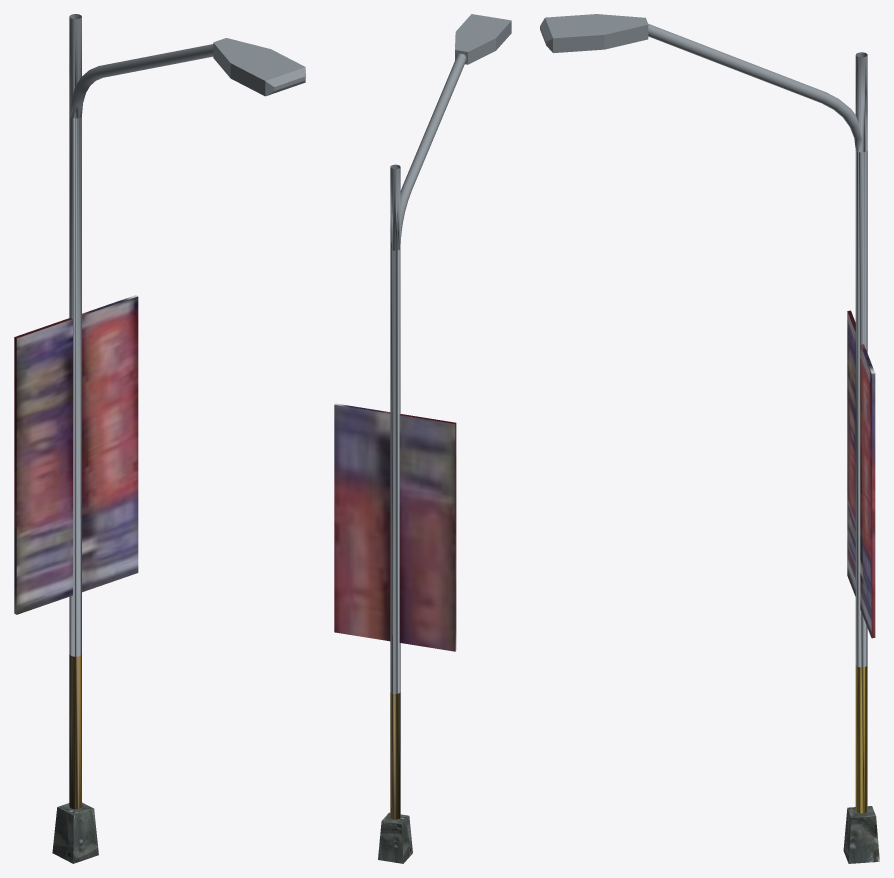
The model's file is LightLamp6.fbx.
3 renders of one model, left to right at view 1: azimuth 30°, elevation 25°; view 2: azimuth 150°, elevation 25°; view 3: azimuth 270°, elevation 25°, orthographic. The views are drawn at different scales.
Visible parts, largest first — view 1: LightLamp6; view 2: LightLamp6; view 3: LightLamp6.
Boxes of the visible parts, x1=… form: LightLamp6: x1=14, y1=14, x2=305, y2=863; LightLamp6: x1=334, y1=14, x2=511, y2=863; LightLamp6: x1=540, y1=14, x2=879, y2=863.
Bounding box in the file's own units: 0.922 × 5.76 × 2.09.
Materials: 1 (1 with a texture image).
